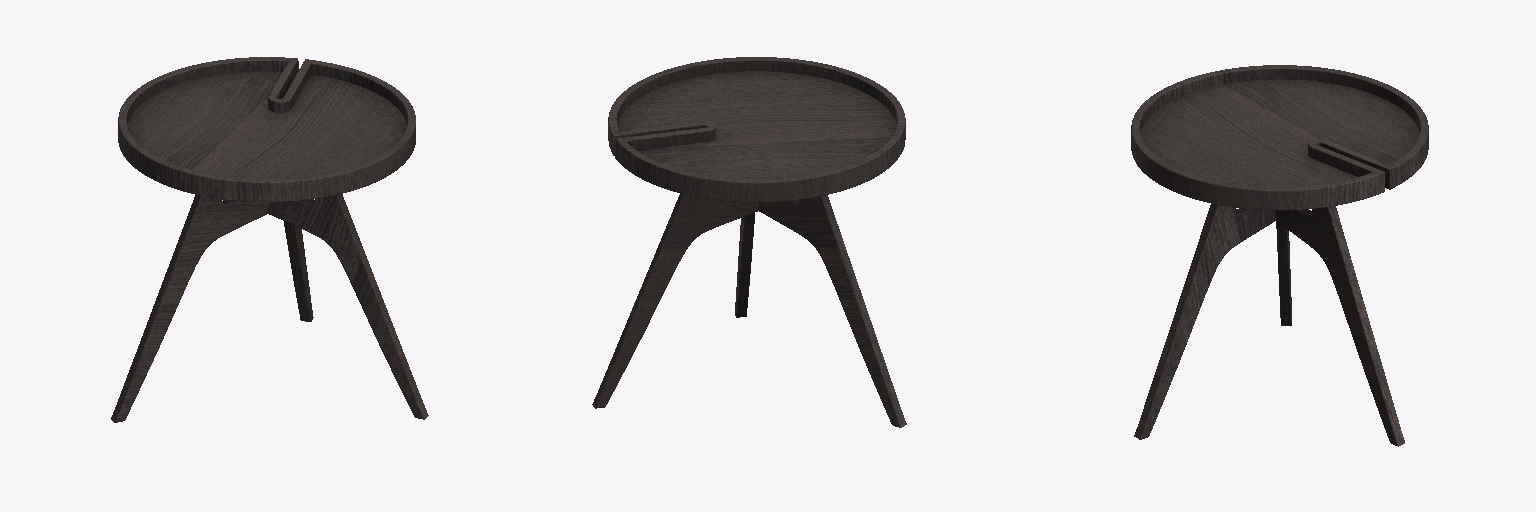
The picture shows the model from 3 angles: view 1: azimuth 30°, elevation 25°; view 2: azimuth 150°, elevation 25°; view 3: azimuth 270°, elevation 25°; orthographic projection.
Visible parts, largest first — view 1: solid; view 2: solid; view 3: solid.
Part boxes in pixels (x1,y1,x2,y2): solid: (111,57,428,422); solid: (592,57,906,427); solid: (1131,65,1428,446).
Size of the model in its own units: 1.41 by 1.29 by 1.3.
Materials: 1 (1 with a texture image).